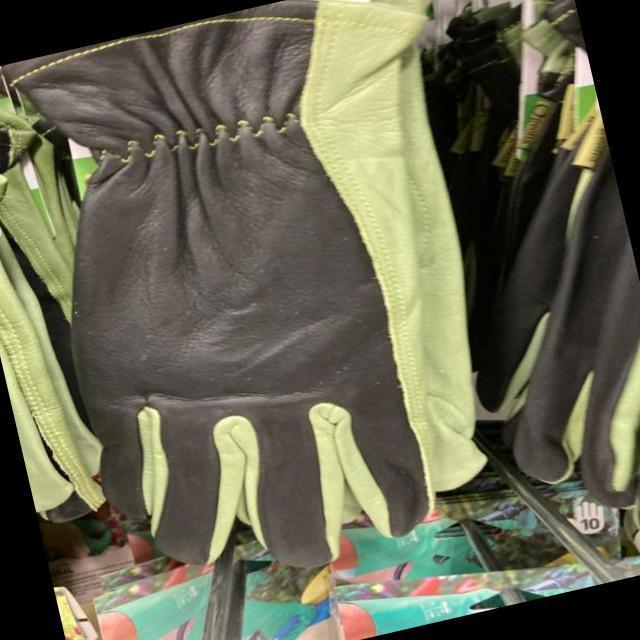Gloves: (20, 16, 471, 569), (484, 105, 640, 505)
